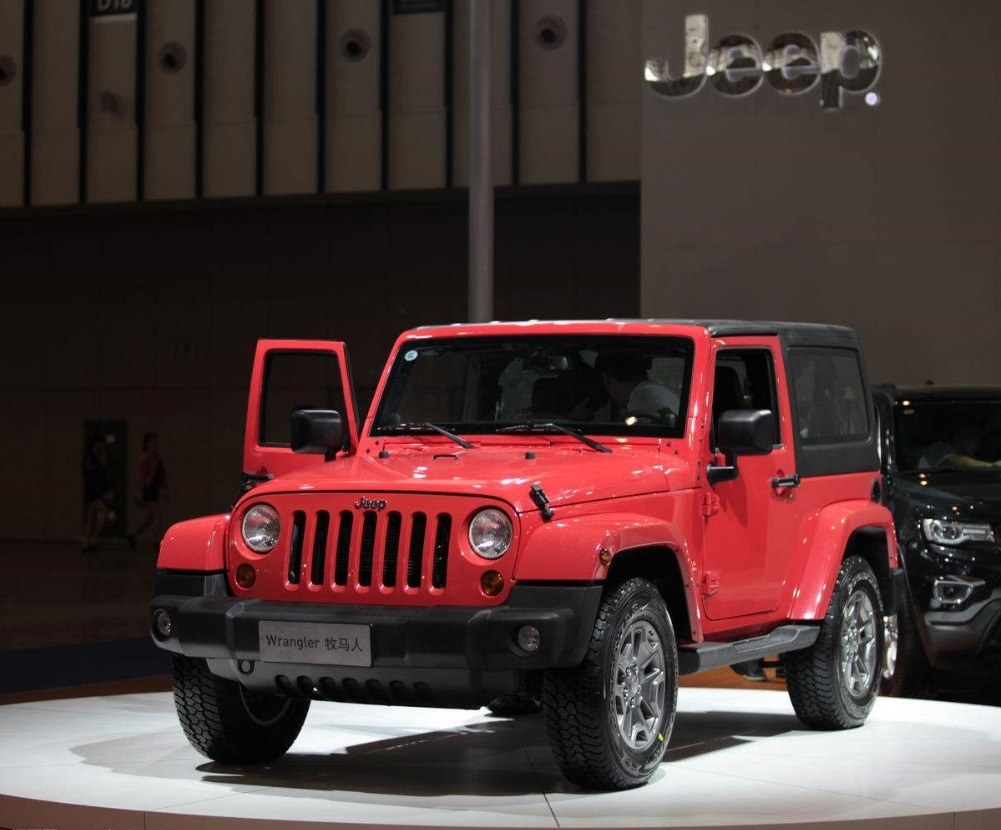jeep: (131, 264, 898, 780)
